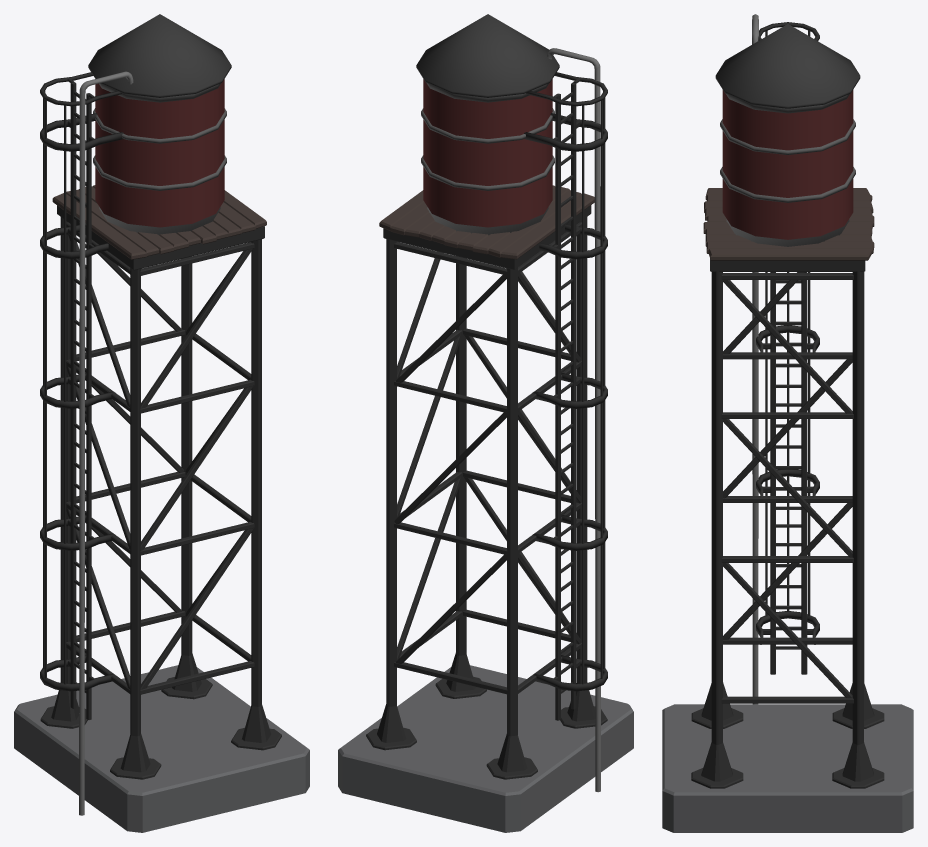
Rendered from farmstractures_21.glb.
The picture shows the model from 3 angles, left to right: view 1: azimuth 30°, elevation 25°; view 2: azimuth 150°, elevation 25°; view 3: azimuth 270°, elevation 25°; orthographic projection.
Parts seen in each view (by area): view 1: farmstractures_21; view 2: farmstractures_21; view 3: farmstractures_21.
Part boxes in pixels (x1,y1,x2,y2): farmstractures_21: [14, 14, 309, 832]; farmstractures_21: [338, 14, 633, 832]; farmstractures_21: [662, 14, 913, 832].
Size of the model in its own units: 2.89 by 10.13 by 2.98.
Materials: 1 (1 with a texture image).
